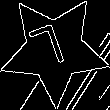L_S: (32, 21, 77, 79)
